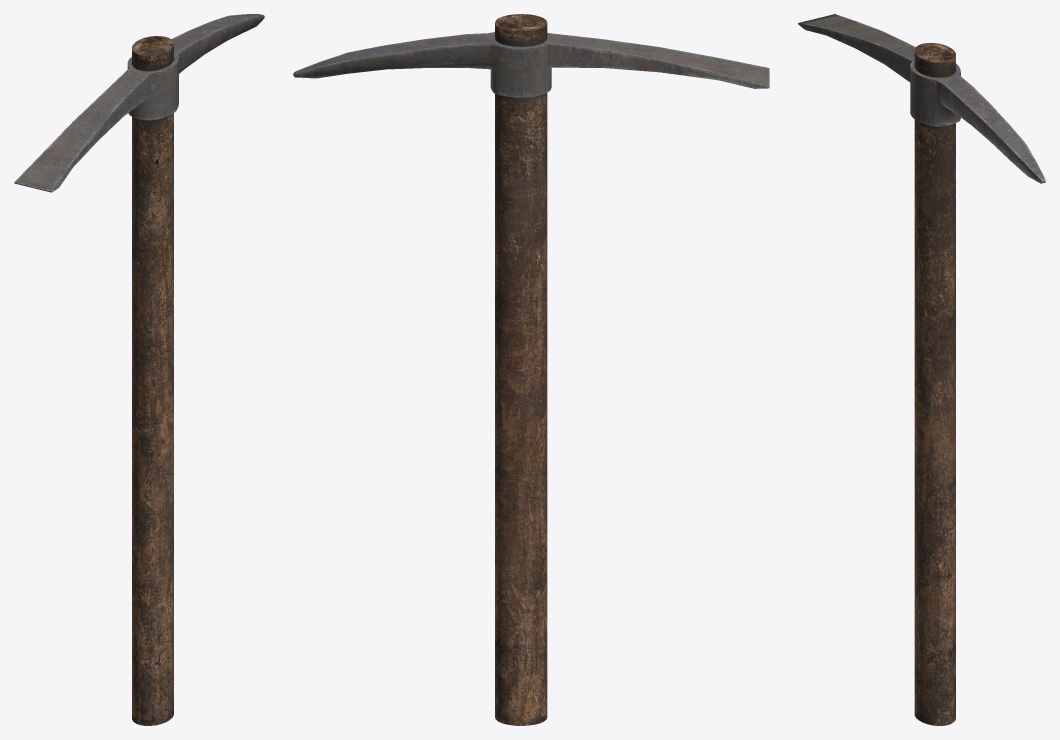
Rendered from MeshBaker (0)-mesh-mesh.fbx.
The picture shows the model from 3 angles, left to right: view 1: azimuth 30°, elevation 25°; view 2: azimuth 150°, elevation 25°; view 3: azimuth 270°, elevation 25°; orthographic projection. The views are drawn at different scales.
Visible parts, largest first — view 1: MeshBaker__0__mesh_mesh; view 2: MeshBaker__0__mesh_mesh; view 3: MeshBaker__0__mesh_mesh.
Boxes of the visible parts, x1,y1,x2,y2 form: MeshBaker__0__mesh_mesh: (14,14,264,725); MeshBaker__0__mesh_mesh: (293,14,769,725); MeshBaker__0__mesh_mesh: (798,14,1045,725).
Bounding box in the file's own units: 114 × 206 × 69.66.
